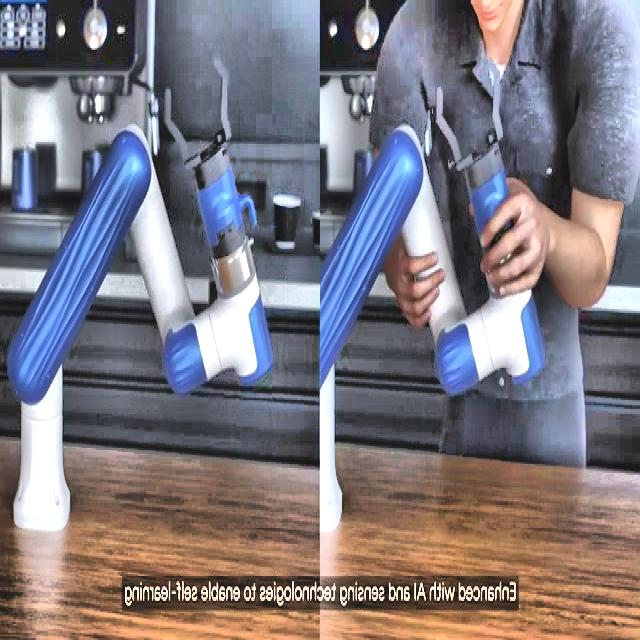robot: (7, 110, 274, 532), (319, 114, 547, 532)
